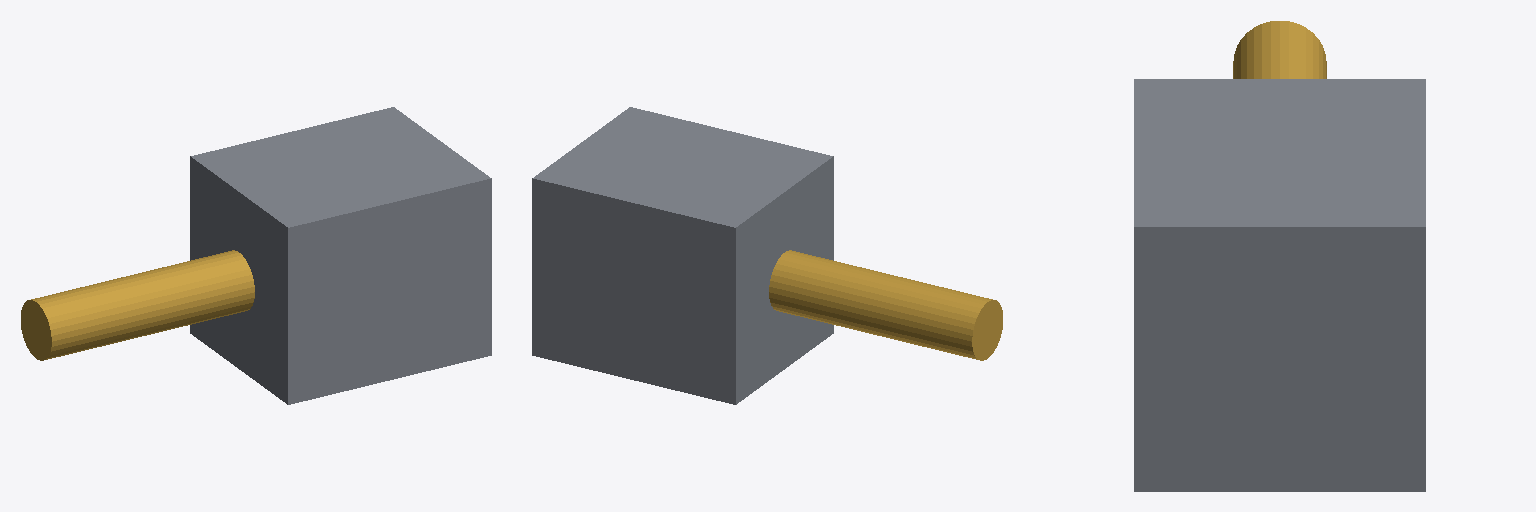
The robot description file, URDF, robot "solenoid_bench":
<?xml version="1.0"?>
<!-- A push-pull solenoid on a bench (RFC 0020 §4.6), the sample of docs/physics/actuators.md
     "Solenoids": a frame fixed to the ground and a 20 g plunger sliding 10 mm along x into its
     coil. The coil and spring are in solenoid_bench.overlay.yaml. Dimensions are illustrative,
     not a real product. -->
<robot name="solenoid_bench">
  <link name="world"/>
  <link name="frame">
    <inertial>
      <origin xyz="0 0 0.015"/>
      <mass value="0.2"/>
      <inertia ixx="2.0e-5" iyy="4.0e-5" izz="4.0e-5" ixy="0" ixz="0" iyz="0"/>
    </inertial>
    <visual>
      <origin xyz="0.0 0 0.015"/>
      <geometry><box size="0.03 0.025 0.025"/></geometry>
      <material name="steel"><color rgba="0.55 0.57 0.6 1"/></material>
    </visual>
    <collision>
      <origin xyz="0.0 0 0.015"/>
      <geometry><box size="0.03 0.025 0.025"/></geometry>
    </collision>
  </link>
  <joint name="frame_fixed" type="fixed">
    <parent link="world"/>
    <child link="frame"/>
  </joint>

  <!-- The plunger: a rod that slides into the coil along +x; its limits are the stops. -->
  <link name="plunger_rod">
    <inertial>
      <origin xyz="-0.02 0 0"/>
      <mass value="0.02"/>
      <inertia ixx="1.0e-7" iyy="3.0e-6" izz="3.0e-6" ixy="0" ixz="0" iyz="0"/>
    </inertial>
    <visual>
      <origin xyz="-0.02 0 0" rpy="0 1.5708 0"/>
      <geometry><cylinder radius="0.004" length="0.04"/></geometry>
      <material name="brass"><color rgba="0.8 0.65 0.3 1"/></material>
    </visual>
  </link>
  <joint name="plunger" type="prismatic">
    <parent link="frame"/>
    <child link="plunger_rod"/>
    <origin xyz="-0.005 0 0.015"/>
    <axis xyz="1 0 0"/>
    <limit lower="0.0" upper="0.010" effort="50" velocity="5"/>
  </joint>
</robot>

--- Facts derived from the render (not from the file) ---
The picture shows the robot from 3 angles, left to right: view 1: azimuth 30°, elevation 25°; view 2: azimuth 150°, elevation 25°; view 3: azimuth 270°, elevation 25°; orthographic projection.
Model solenoid_bench with 3 links and 2 joints (1 prismatic, 1 fixed), rooted at world, posed all joints at 0.
Links seen in each view (by area): view 1: frame, plunger_rod; view 2: frame, plunger_rod; view 3: frame, plunger_rod.
Boxes of the visible links, x1,y1,x2,y2 form: frame: (190, 107, 491, 404); plunger_rod: (21, 250, 254, 360); frame: (532, 107, 833, 404); plunger_rod: (769, 250, 1002, 360); frame: (1134, 79, 1425, 491); plunger_rod: (1233, 21, 1326, 78).
Size in the robot's own frame: 0.06 by 0.025 by 0.025 metres.
Geometry: primitives only (box / cylinder / sphere), no mesh files.
